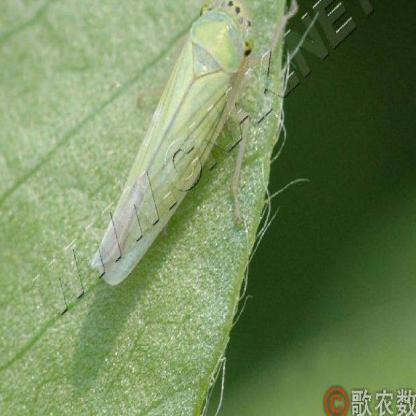Green-Leafhopper: (87, 0, 263, 308)
